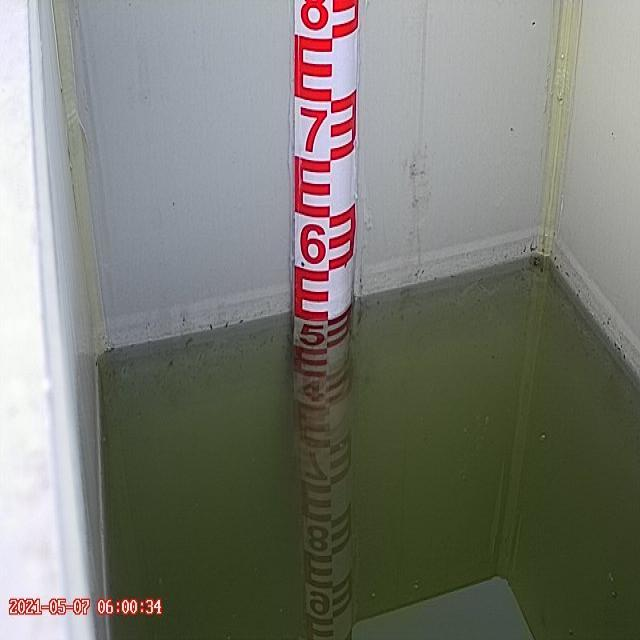ruler: (281, 0, 364, 335)
value: (294, 103, 332, 162), (294, 216, 333, 273), (291, 0, 335, 38)
